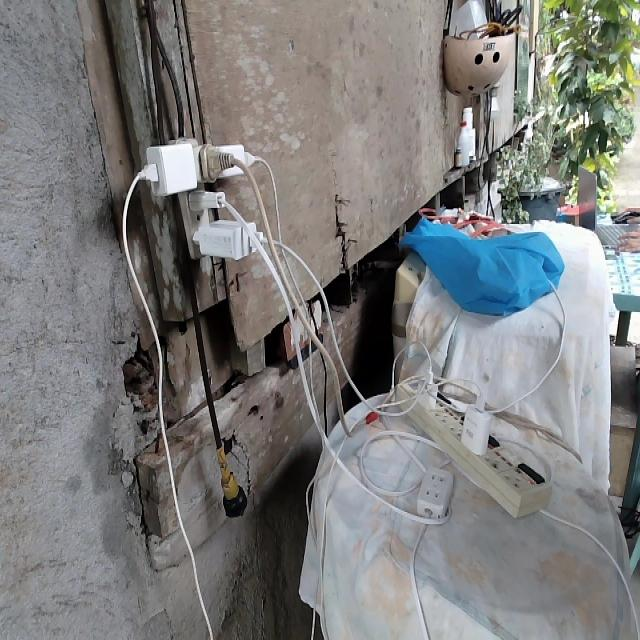-: (135, 136, 270, 261)
